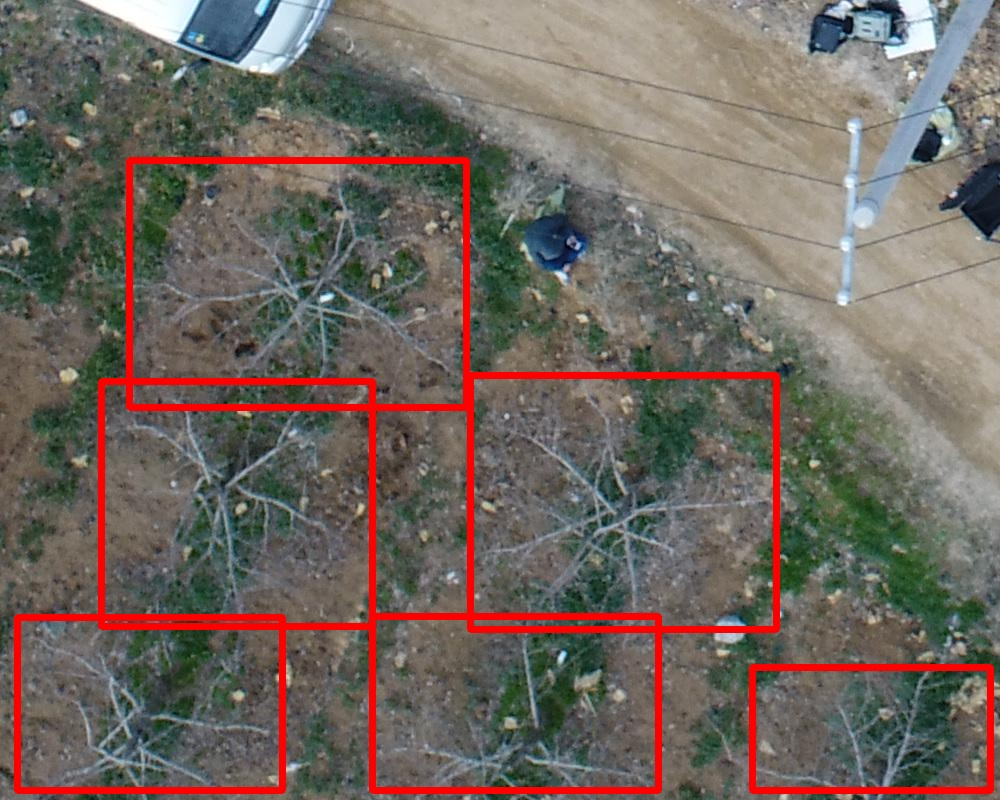apple: (129, 160, 466, 407), (470, 375, 776, 629), (101, 381, 372, 626), (372, 616, 658, 790), (17, 617, 282, 790), (752, 667, 990, 790)
